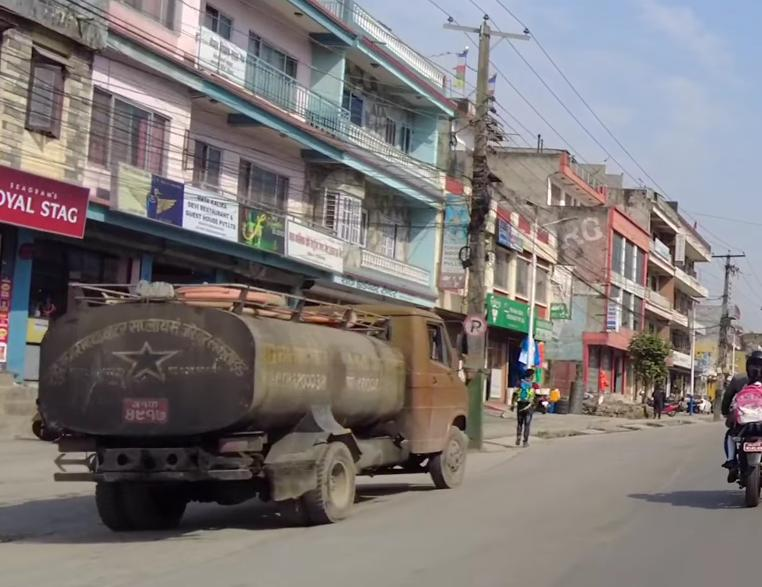bike: (720, 333, 762, 521)
mini_truck: (31, 268, 483, 541)
